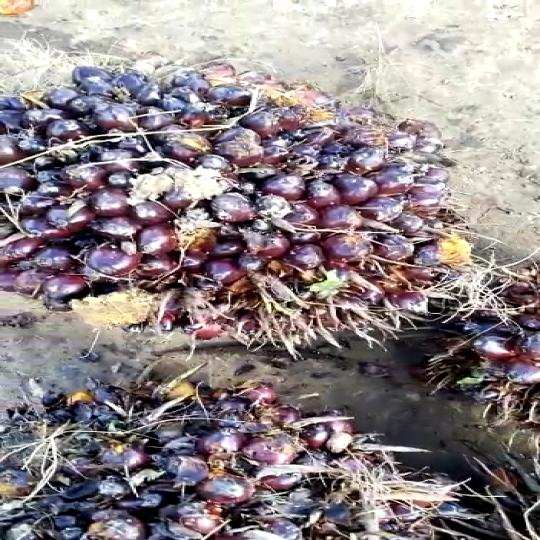masak: (0, 63, 484, 359)
